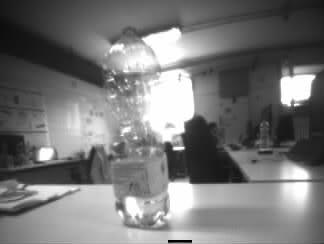Bottle: (105, 27, 171, 224)
